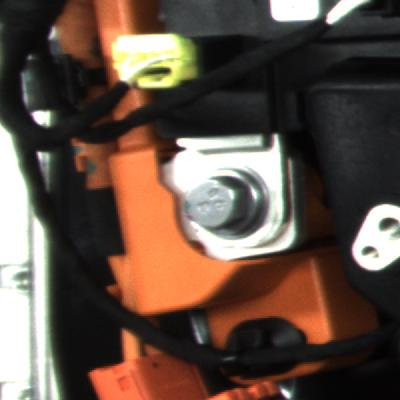nut_b: (174, 159, 276, 243)
